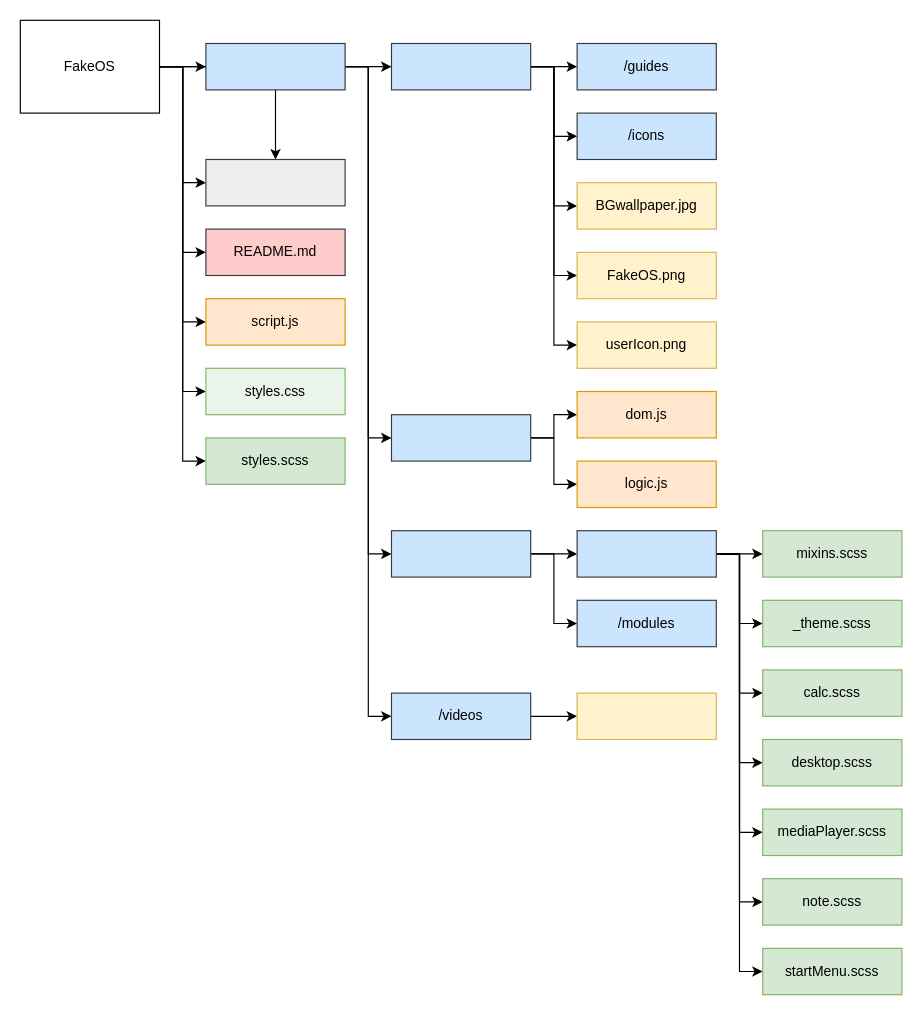
The diagram is 922 pixels wide and 1015 high, and some of its shapes have lost their labels. Each missing label, with the box of its shape:
/assets: (205, 42, 345, 90)
/images: (390, 42, 531, 90)
/mixin: (576, 530, 716, 577)
/scripts: (390, 414, 531, 461)
/styles: (390, 530, 531, 577)
index.html: (205, 158, 345, 206)
kittenPaws.mp4: (576, 692, 716, 740)
